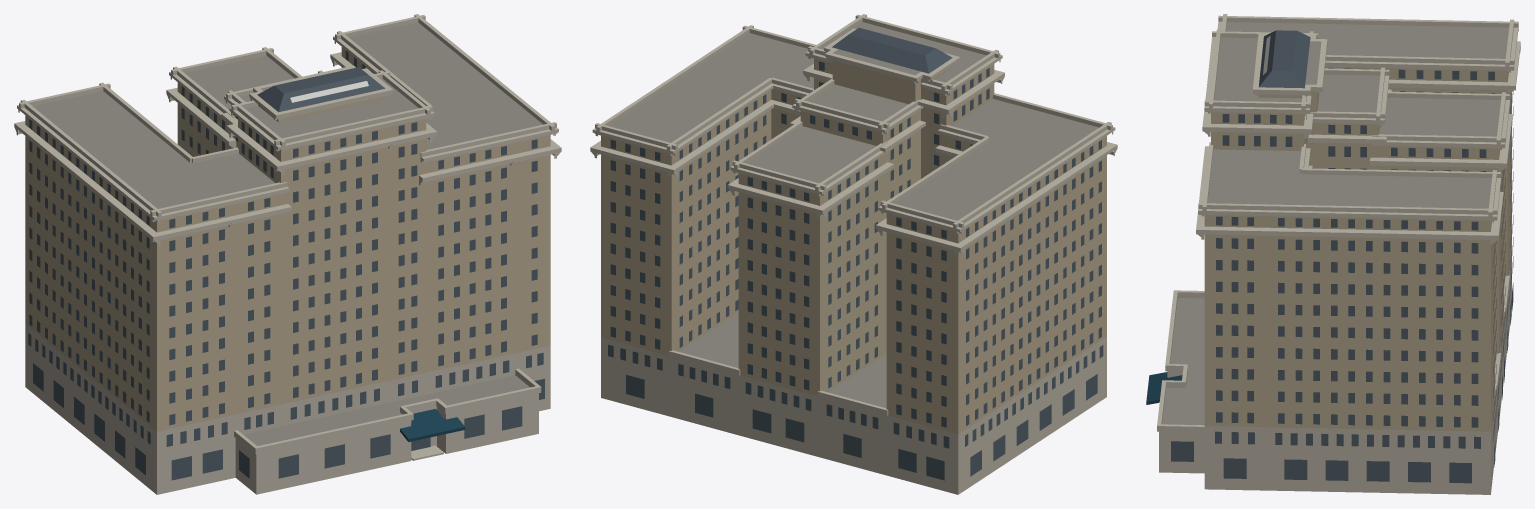
Rendered from fairmont-palliser-far.glb.
3 views of the same model, side by side, from view 1: azimuth 30°, elevation 25°; view 2: azimuth 150°, elevation 25°; view 3: azimuth 270°, elevation 25° (orthographic). The views are drawn at different scales.
Visible parts, largest first — view 1: fairmont-palliser-0-brick, fairmont-palliser-0-stone, fairmont-palliser-0-roof, fairmont-palliser-0-glass, fairmont-palliser-0-glow, fairmont-palliser-0-slate, fairmont-palliser-0-canopy; view 2: fairmont-palliser-0-brick, fairmont-palliser-0-stone, fairmont-palliser-0-roof, fairmont-palliser-0-glass, fairmont-palliser-0-glow, fairmont-palliser-0-slate; view 3: fairmont-palliser-0-brick, fairmont-palliser-0-stone, fairmont-palliser-0-roof, fairmont-palliser-0-glass, fairmont-palliser-0-glow, fairmont-palliser-0-slate, fairmont-palliser-0-canopy.
Boxes of the visible parts, box(x1,y1,x2,y2) form: fairmont-palliser-0-brick: box(25, 47, 550, 431); fairmont-palliser-0-stone: box(14, 14, 561, 494); fairmont-palliser-0-roof: box(33, 22, 542, 445); fairmont-palliser-0-glass: box(28, 50, 544, 480); fairmont-palliser-0-glow: box(29, 57, 537, 425); fairmont-palliser-0-slate: box(257, 67, 384, 112); fairmont-palliser-0-canopy: box(400, 409, 465, 441); fairmont-palliser-0-brick: box(601, 58, 1106, 434); fairmont-palliser-0-stone: box(590, 14, 1117, 494); fairmont-palliser-0-roof: box(609, 22, 1098, 408); fairmont-palliser-0-glass: box(608, 61, 1103, 480); fairmont-palliser-0-glow: box(610, 68, 1101, 427); fairmont-palliser-0-slate: box(832, 27, 952, 73); fairmont-palliser-0-brick: box(1204, 66, 1511, 431); fairmont-palliser-0-stone: box(1157, 14, 1520, 494); fairmont-palliser-0-roof: box(1162, 22, 1508, 425); fairmont-palliser-0-glass: box(1171, 68, 1513, 483); fairmont-palliser-0-glow: box(1216, 68, 1513, 426); fairmont-palliser-0-slate: box(1258, 30, 1310, 88); fairmont-palliser-0-canopy: box(1146, 372, 1182, 404).
Size of the model in its own units: 74.49 by 60 by 58.82.
